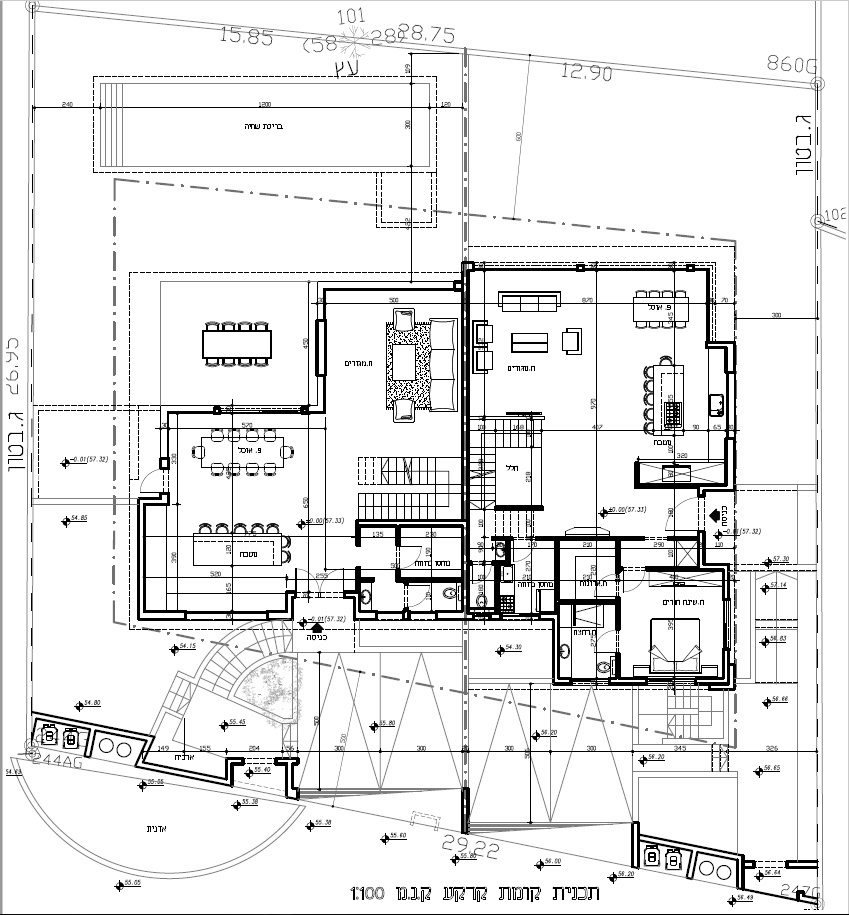door: (662, 492, 706, 535), (387, 529, 431, 572), (397, 576, 441, 619), (508, 527, 542, 566), (137, 463, 174, 496)
window: (205, 399, 311, 418), (718, 589, 740, 656), (631, 671, 700, 691), (553, 672, 626, 686)
